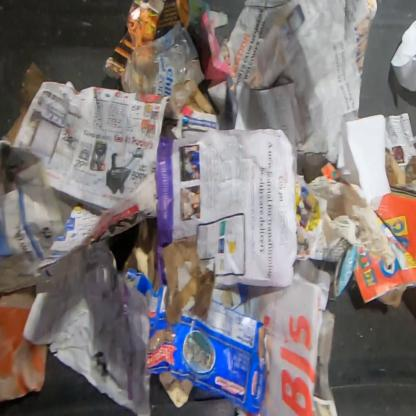cardboard: (125, 267, 272, 415), (6, 62, 46, 146)
rigid_plastic: (121, 20, 205, 109)
